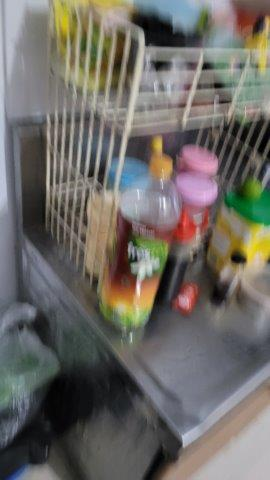botolplastik: (100, 154, 181, 332)
